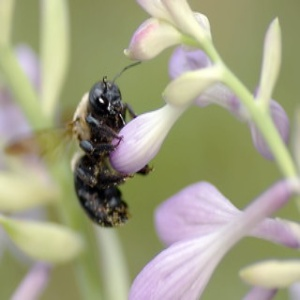bee: (37, 70, 136, 235)
